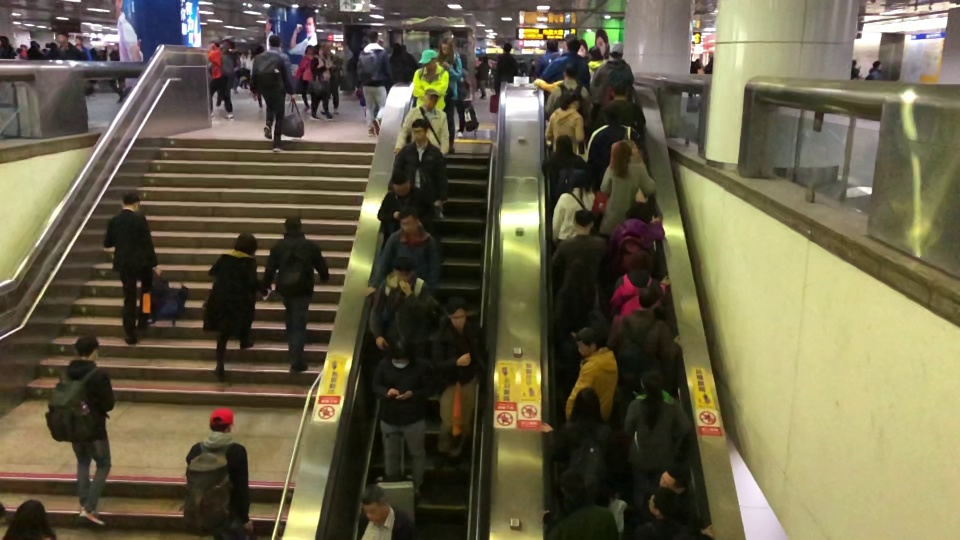person_head: (4, 498, 57, 532), (568, 386, 602, 428), (360, 485, 391, 525), (646, 486, 682, 519), (560, 467, 588, 506), (659, 462, 691, 496), (570, 325, 600, 358), (443, 296, 468, 335), (609, 139, 633, 179), (392, 254, 418, 288), (565, 255, 591, 287), (74, 335, 100, 366), (389, 335, 412, 370), (208, 407, 235, 435), (624, 201, 654, 226), (639, 367, 663, 397), (397, 203, 420, 233), (233, 230, 259, 256), (573, 208, 595, 237), (638, 285, 660, 312), (601, 103, 626, 126), (629, 249, 652, 274), (417, 47, 438, 73), (120, 189, 141, 214), (438, 34, 455, 64), (392, 169, 410, 197), (411, 118, 428, 146), (566, 168, 587, 190), (560, 89, 580, 112), (422, 86, 439, 110), (554, 133, 573, 154), (611, 81, 630, 100), (284, 214, 302, 233), (609, 40, 624, 61), (587, 44, 604, 61), (565, 37, 581, 52), (267, 33, 281, 49), (564, 61, 577, 78), (546, 37, 559, 52), (366, 31, 380, 44), (57, 31, 70, 43), (870, 61, 884, 72), (208, 37, 220, 49), (74, 32, 84, 44), (305, 43, 315, 55), (314, 46, 324, 58), (503, 41, 512, 54), (255, 45, 265, 54), (0, 36, 9, 45), (325, 42, 332, 53), (112, 42, 120, 50), (481, 55, 489, 63)
person_vbox: (45, 335, 116, 530), (538, 385, 622, 516), (372, 335, 435, 502), (263, 214, 330, 371), (202, 232, 272, 377), (622, 365, 694, 505), (185, 406, 255, 540), (433, 295, 486, 467), (104, 190, 162, 344), (605, 285, 683, 397), (393, 87, 449, 218), (363, 205, 441, 299), (367, 254, 434, 351), (593, 141, 656, 239), (389, 115, 448, 219), (563, 326, 619, 427), (253, 35, 297, 152), (611, 248, 671, 333), (548, 469, 619, 540), (590, 100, 644, 185), (355, 29, 395, 137), (554, 209, 608, 289), (609, 200, 665, 275), (376, 167, 428, 243), (539, 134, 591, 208), (356, 482, 422, 540), (551, 259, 605, 328), (589, 43, 634, 118), (551, 169, 595, 244), (545, 63, 593, 131), (436, 35, 463, 153), (591, 82, 645, 139), (545, 92, 588, 161), (542, 36, 591, 89), (412, 47, 450, 114), (207, 36, 237, 120), (488, 40, 520, 114), (312, 44, 334, 122), (324, 42, 341, 117), (295, 44, 312, 115), (250, 45, 267, 111), (534, 38, 562, 77), (57, 32, 89, 62), (587, 46, 608, 85), (109, 41, 123, 90), (533, 76, 564, 97), (477, 55, 490, 99), (863, 61, 888, 82), (74, 35, 93, 61), (0, 35, 17, 59)
